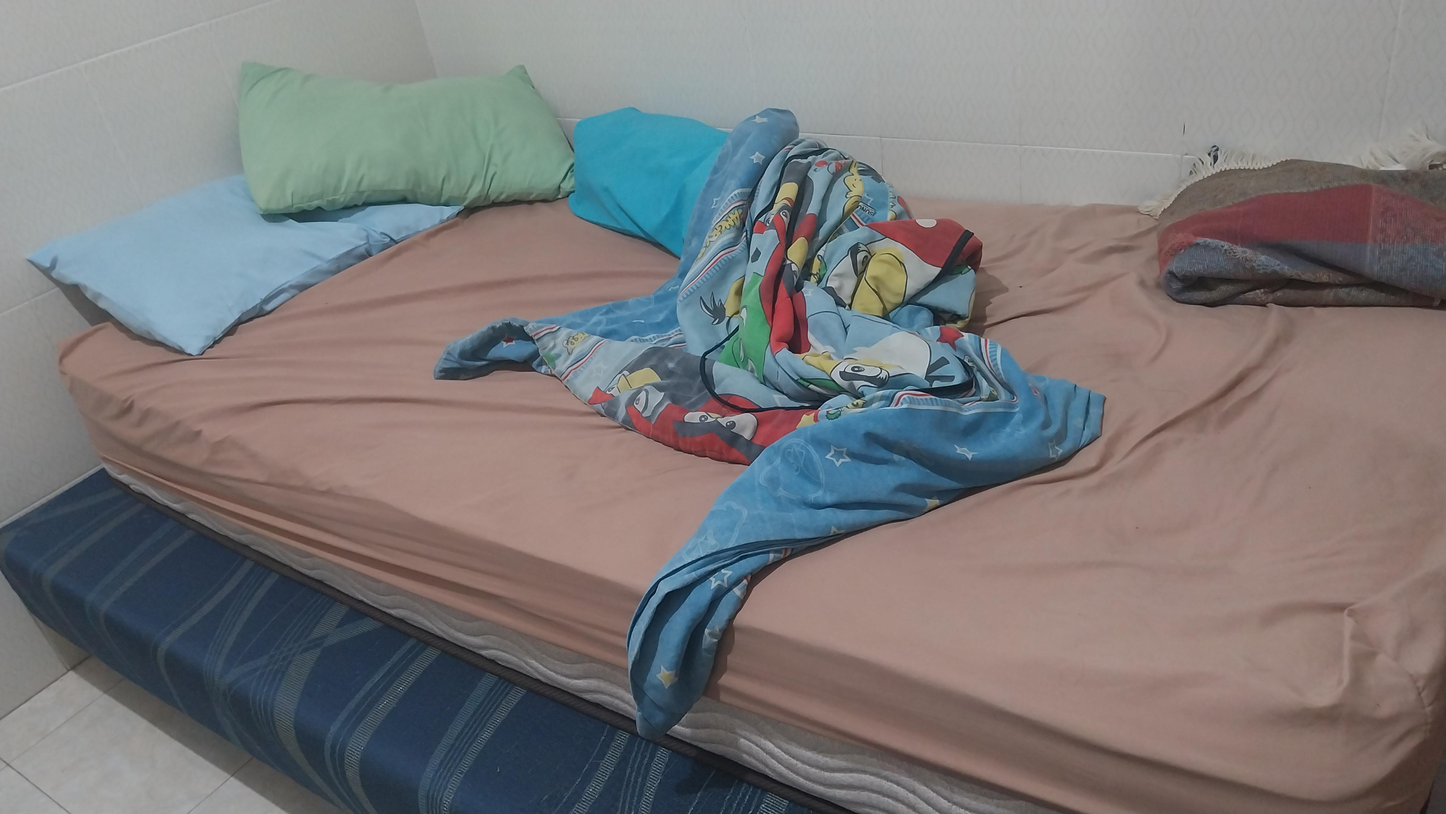bed: (58, 196, 1446, 814)
blanket: (389, 41, 1120, 743)
pillow: (26, 102, 475, 398), (239, 63, 574, 216), (546, 81, 727, 256)
